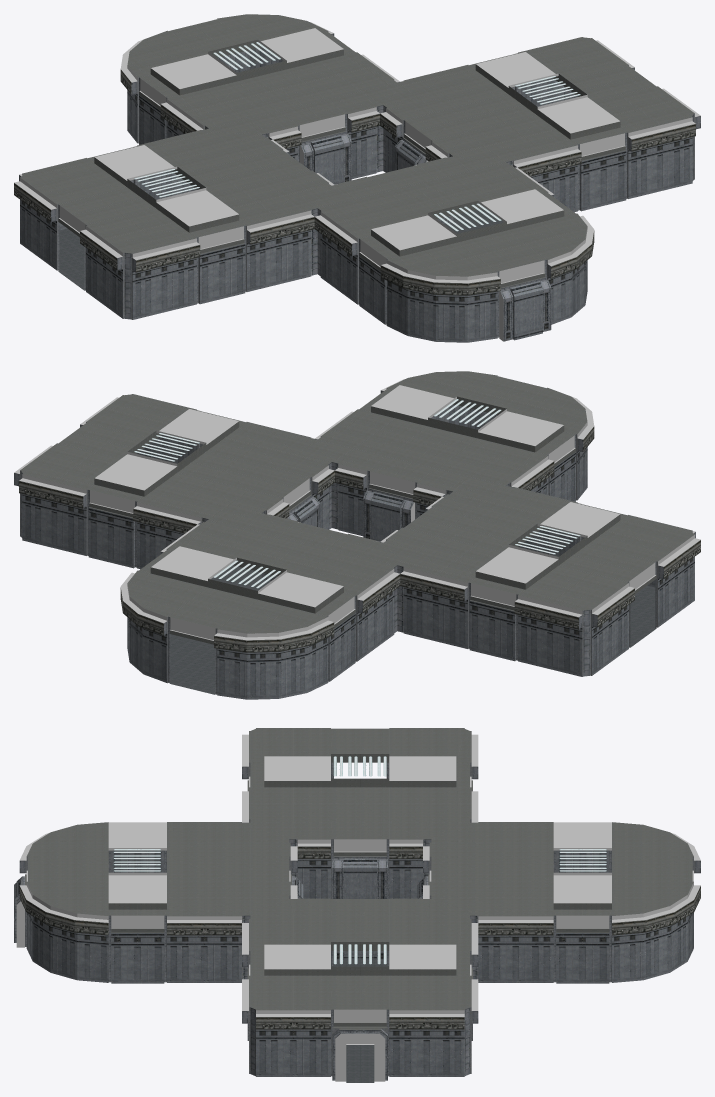
The model's file is poi_all_impl_bunker_research_facility_s01_r5_foyer_mesh.fbx.
3 renders of one model, top to bottom at view 1: azimuth 30°, elevation 25°; view 2: azimuth 150°, elevation 25°; view 3: azimuth 270°, elevation 25°, orthographic.
Visible parts, largest first — view 1: mesh_node; view 2: mesh_node; view 3: mesh_node.
Part boxes in pixels (<box>): mesh_node: <box>14,14,700,342</box>; mesh_node: <box>14,371,700,699</box>; mesh_node: <box>14,728,700,1082</box>.
Size of the model in its own units: 49.5 by 6 by 49.4.
